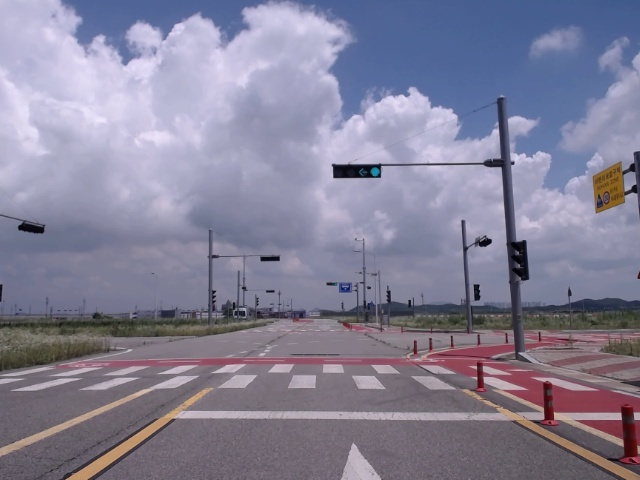all_green_4: (335, 165, 383, 181)
